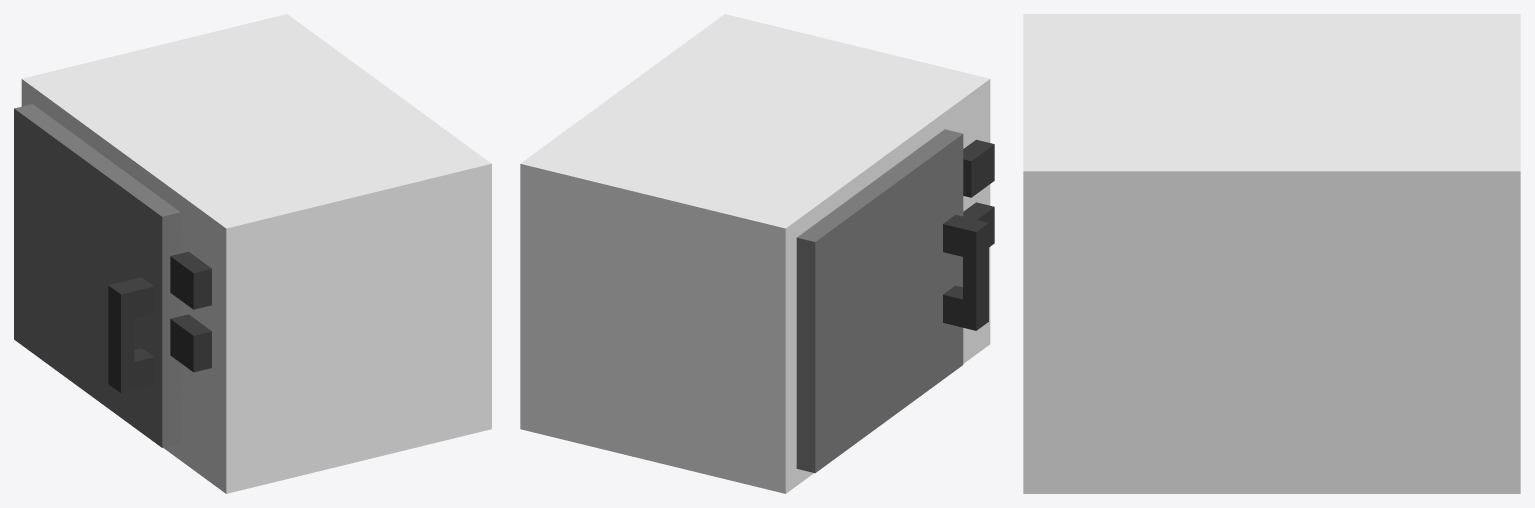
File: mikro.FBX
3 renders of one model, left to right at view 1: azimuth 30°, elevation 25°; view 2: azimuth 150°, elevation 25°; view 3: azimuth 270°, elevation 25°, orthographic. The views are drawn at different scales.
Visible parts, largest first — view 1: mikro; view 2: mikro; view 3: mikro.
Part boxes in pixels (x1,y1,x2,y2): mikro: (14,14,491,493); mikro: (520,14,994,493); mikro: (1023,14,1520,493).
Size of the model in its own units: 135 by 108 by 150.
